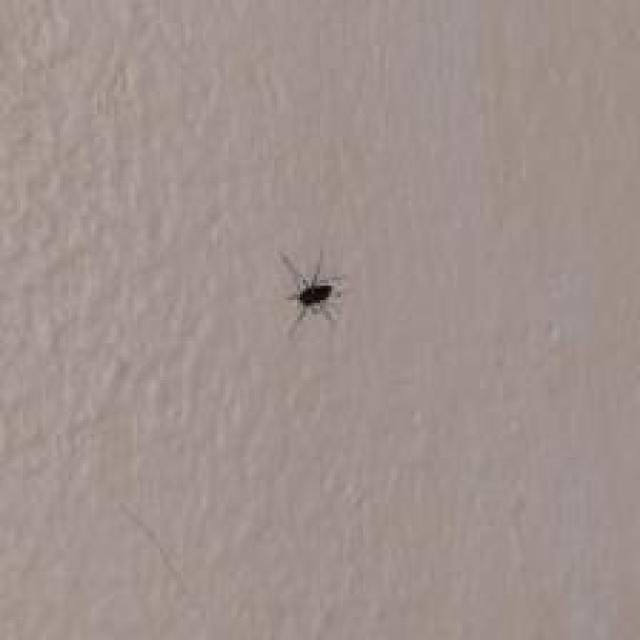Aedes albopictus: (277, 248, 346, 332)
